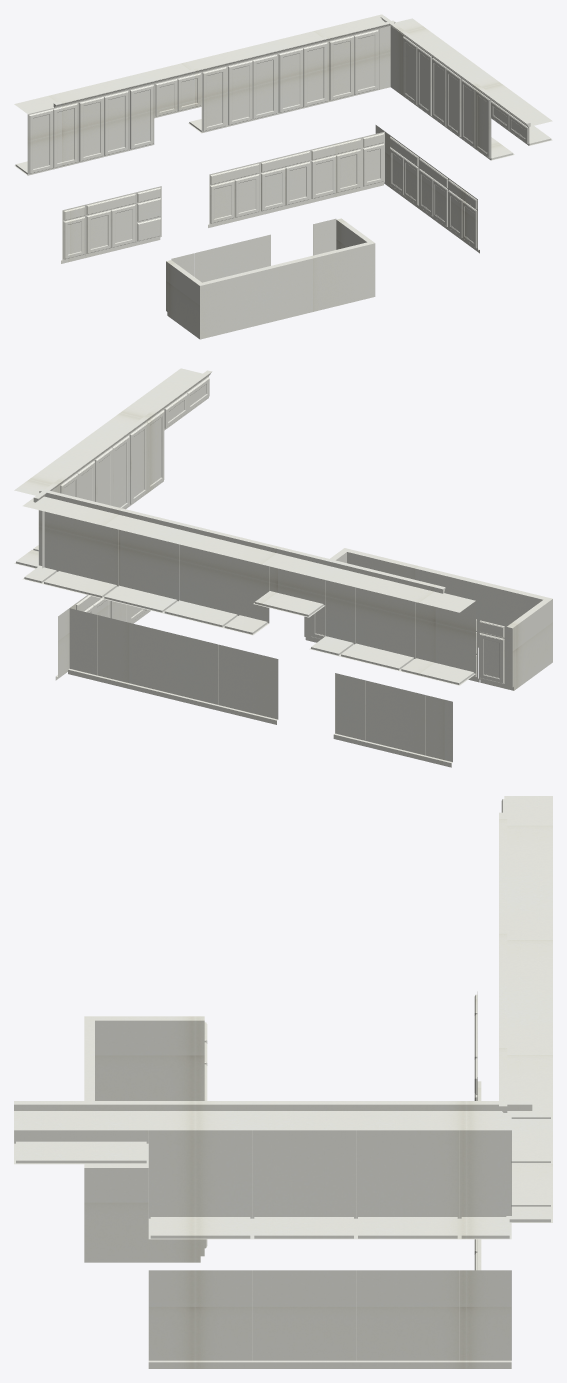
The model's file is cabinets_linen.glb.
3 renders of one model, top to bottom at view 1: azimuth 30°, elevation 25°; view 2: azimuth 150°, elevation 25°; view 3: azimuth 270°, elevation 25°, orthographic. The views are drawn at different scales.
Visible parts, largest first — view 1: Cabinet_linen.001; view 2: Cabinet_linen.001; view 3: Cabinet_linen.001.
Part boxes in pixels (<box>): Cabinet_linen.001: <box>14,14,552,339</box>; Cabinet_linen.001: <box>14,368,552,767</box>; Cabinet_linen.001: <box>14,796,552,1368</box>.
Size of the model in its own units: 7.63 by 2.93 by 5.2.
Materials: 1 (1 with a texture image).
